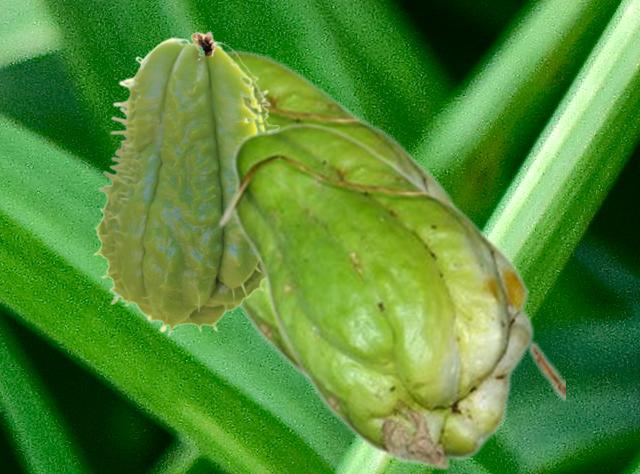sayote: (216, 122, 564, 470), (229, 49, 459, 381), (92, 30, 278, 336)
